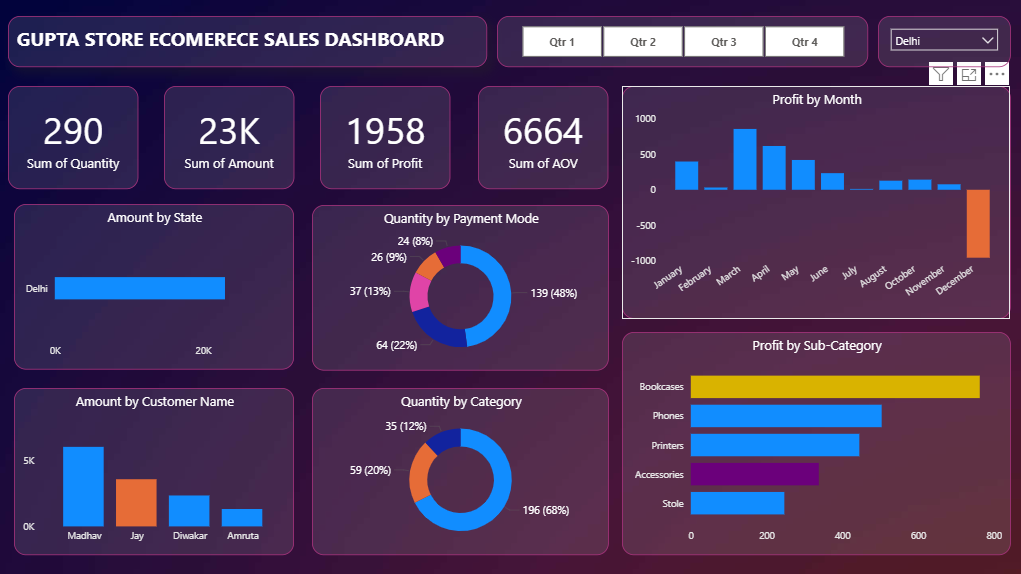

This screenshot's page, from the dashboard's own definition file:
{"tool":"powerbi","page":{"name":"Page 1","canvas":[1280,720],"ordinal":0},"visuals":[{"type":"columnChart","title":"Profit by Month","fields":{"Category":["Orders.Order Date.Variation.Date Hierarchy.Month"],"Y":["Details.Profit"]},"box":[778.6,108.6,485.7,291.4],"z":0},{"type":"barChart","title":"Profit by Sub-Category","fields":{"Category":["Details.Sub-Category"],"Y":["Details.Profit"]},"box":[778.6,415.7,485.7,278.6],"z":1000},{"type":"donutChart","title":"Quantity by Category","fields":{"Category":["Details.Category"],"Y":["Details.Quantity"]},"box":[391.4,485.7,371.4,208.6],"z":2000},{"type":"donutChart","title":"Quantity by Payment Mode","fields":{"Y":["Details.Quantity"],"Category":["Details.PaymentMode"]},"box":[391.4,257.1,371.4,207.1],"z":3000},{"type":"card","fields":{"Values":["Details.Amount"]},"box":[205.7,108.6,162.9,128.6],"z":4000},{"type":"card","fields":{"Values":["Details.Profit"]},"box":[401.4,108.6,162.9,128.6],"z":5000},{"type":"card","fields":{"Values":["Details.Quantity"]},"box":[11.4,108.6,162.9,128.6],"z":6000},{"type":"card","fields":{"Values":["Details.AOV"]},"box":[598.6,108.6,162.9,128.6],"z":7000},{"type":"barChart","title":"Amount by State","fields":{"Category":["Orders.State"],"Y":["Details.Amount"]},"box":[18.6,255.7,350,207.1],"z":8000},{"type":"columnChart","title":"Amount by Customer Name","fields":{"Category":["Orders.CustomerName"],"Y":["Details.Amount"]},"box":[19,486,350,209],"z":9000},{"type":"textbox","box":[11.4,21.4,598.6,64.3],"z":10000},{"type":"slicer","fields":{"Values":["Orders.Order Date.Variation.Date Hierarchy.Quarter"]},"box":[622.9,21.4,464.3,64.3],"z":11000},{"type":"slicer","fields":{"Values":["Orders.State"]},"box":[1098.6,21.4,165.7,64.3],"z":12000}]}

Visuals, with their boxes in screenshot pixels (x1, y1, x2, y2), scaled from the page's 1280x720 canvas onto the 1021x574 screenshot:
"Profit by Month" columnChart: <box>621,87,1008,319</box>
"Profit by Sub-Category" barChart: <box>621,331,1008,554</box>
"Quantity by Category" donutChart: <box>312,387,608,554</box>
"Quantity by Payment Mode" donutChart: <box>312,205,608,370</box>
card - Details.Amount: <box>164,87,294,189</box>
card - Details.Profit: <box>320,87,450,189</box>
card - Details.Quantity: <box>9,87,139,189</box>
card - Details.AOV: <box>477,87,607,189</box>
"Amount by State" barChart: <box>15,204,294,369</box>
"Amount by Customer Name" columnChart: <box>15,387,294,554</box>
textbox: <box>9,17,487,68</box>
slicer - Orders.Order Date.Variation.Date Hierarchy.Quarter: <box>497,17,867,68</box>
slicer - Orders.State: <box>876,17,1008,68</box>
